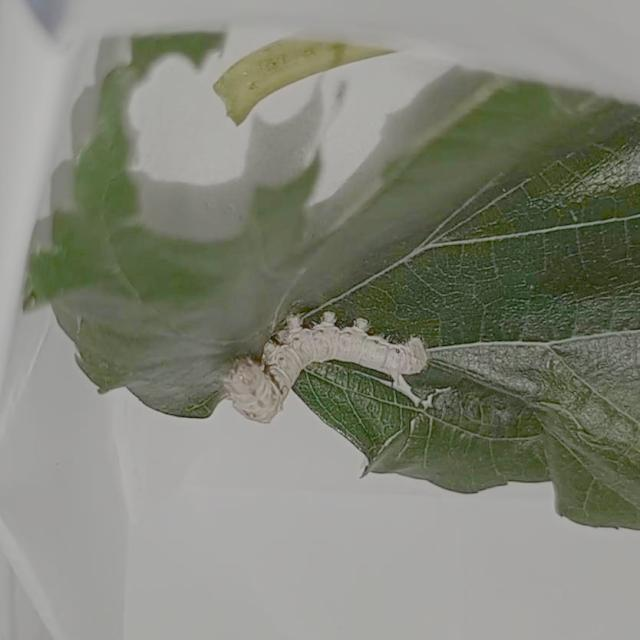Healthy: (203, 285, 447, 435)
